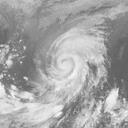cyclone: (41, 30, 89, 93)
